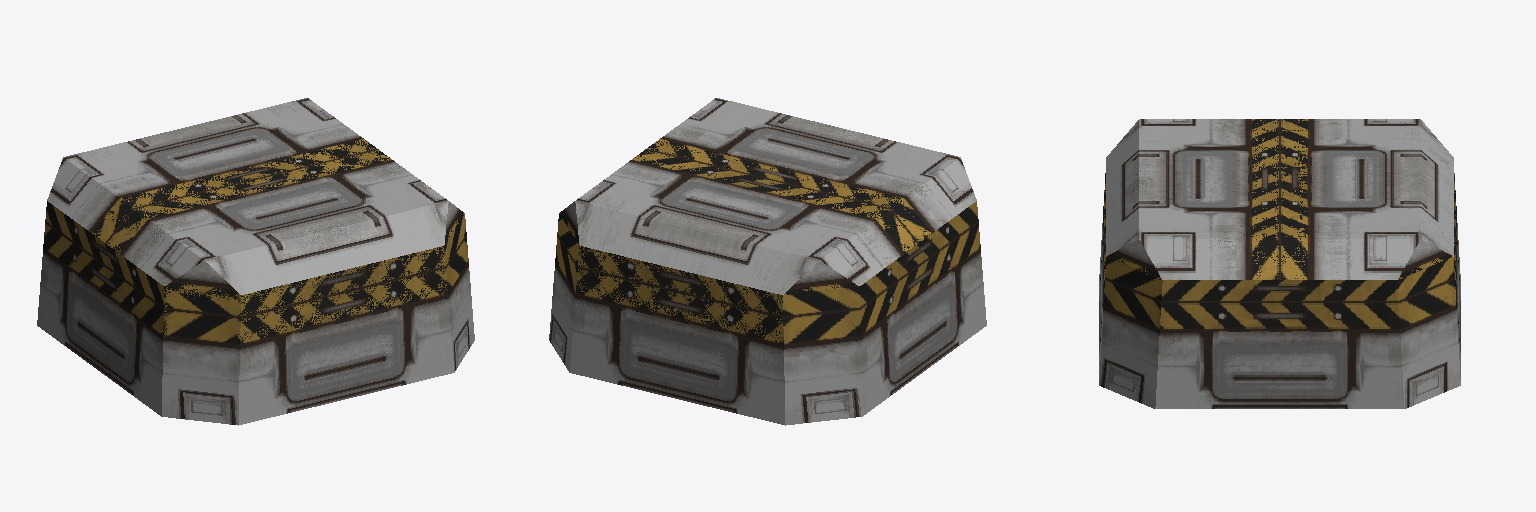
The picture shows the model from 3 angles: view 1: azimuth 30°, elevation 25°; view 2: azimuth 150°, elevation 25°; view 3: azimuth 270°, elevation 25°; orthographic projection.
Visible parts, largest first — view 1: turela.001; view 2: turela.001; view 3: turela.001.
Boxes of the visible parts, <box> form: turela.001: <box>37,98,474,425</box>; turela.001: <box>549,98,986,425</box>; turela.001: <box>1099,119,1460,408</box>.
Size of the model in its own units: 0.5472 by 0.257 by 0.5472.
Materials: 1 (1 with a texture image).